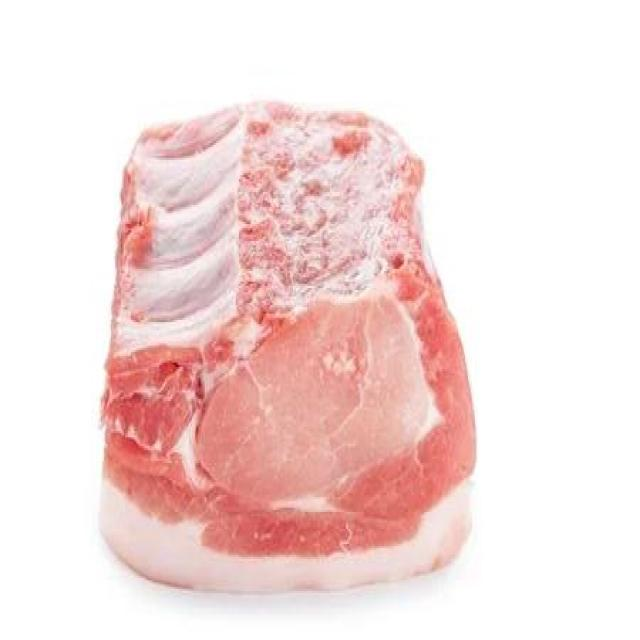pork: (101, 103, 480, 573)
